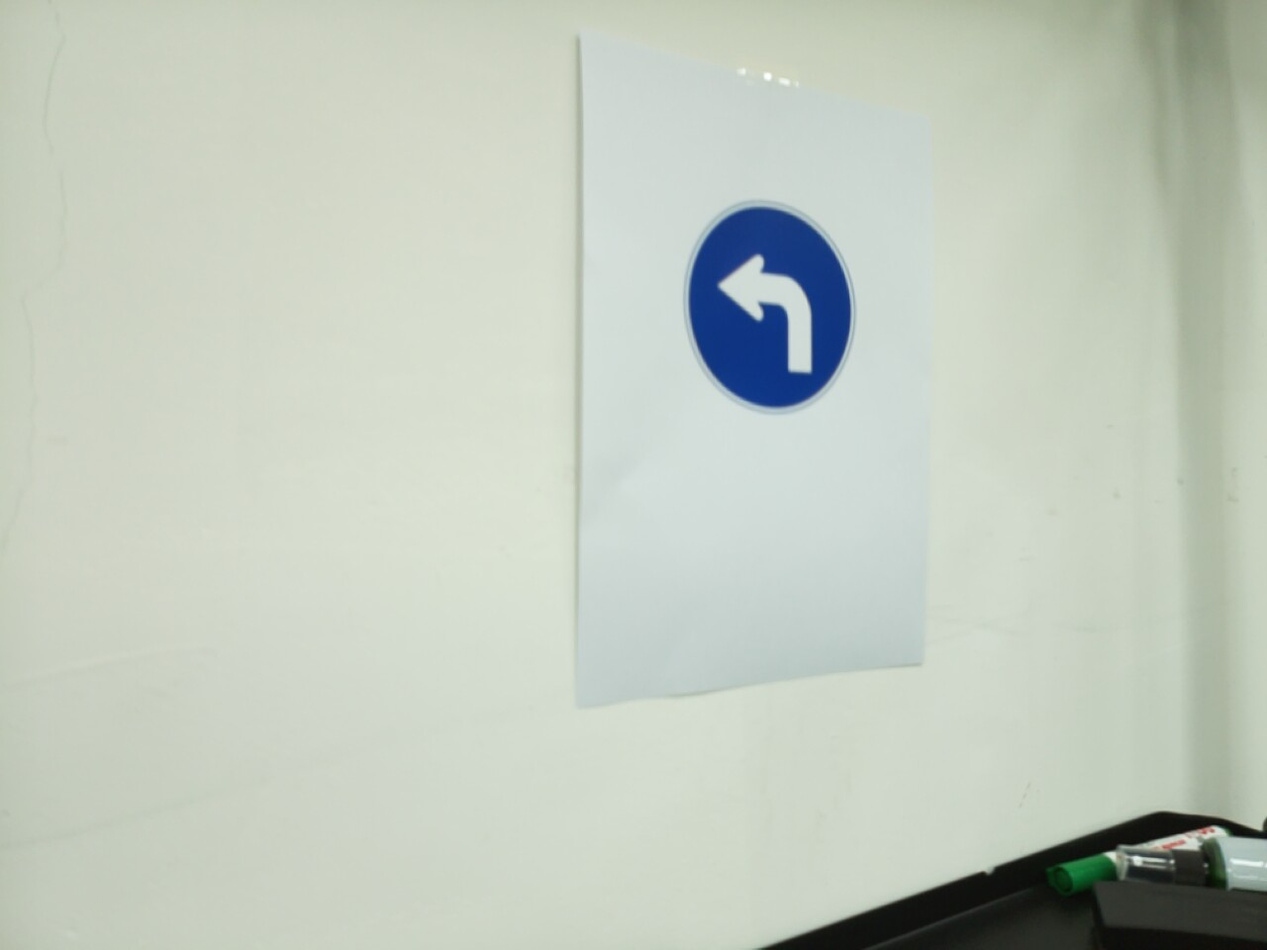left_turn: (681, 199, 858, 416)
